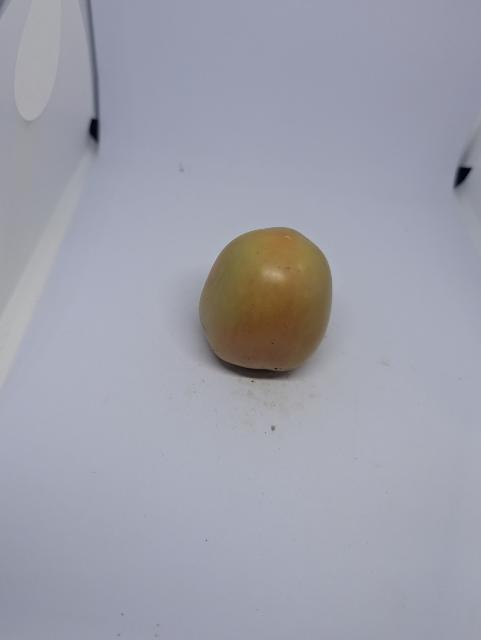breaker: (199, 227, 332, 371)
